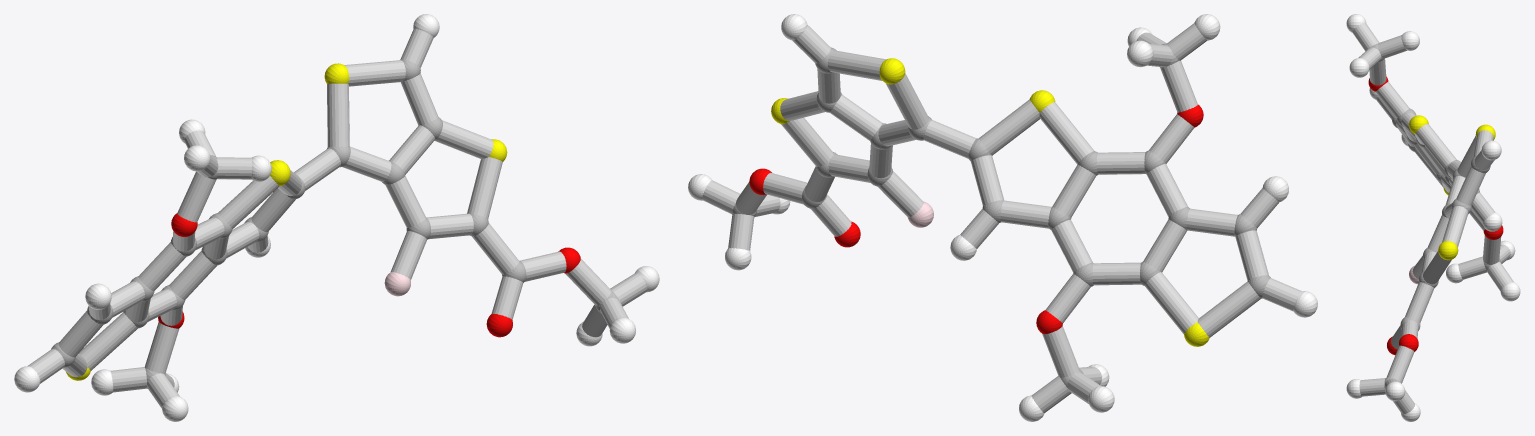
Rendered from color.glb.
3 renders of one model, left to right at view 1: azimuth 30°, elevation 25°; view 2: azimuth 150°, elevation 25°; view 3: azimuth 270°, elevation 25°, orthographic. The views are drawn at different scales.
Parts seen in each view (by area): view 1: grp15205, grp8689, grp1, grp13395, grp7241; view 2: grp15205, grp8689, grp1, grp7241, grp13395; view 3: grp15205, grp8689, grp1, grp7241, grp13395.
Part boxes in pixels (<box>): grp15205: <box>27,28,647,408</box>; grp8689: <box>14,14,659,421</box>; grp1: <box>51,59,618,388</box>; grp13395: <box>158,213,580,337</box>; grp7241: <box>66,63,507,380</box>; grp15205: <box>702,23,1301,413</box>; grp8689: <box>688,14,1317,421</box>; grp1: <box>732,43,1270,387</box>; grp7241: <box>771,58,1209,346</box>; grp13395: <box>749,104,1203,334</box>; grp15205: <box>1352,23,1513,413</box>; grp8689: <box>1346,14,1520,421</box>; grp1: <box>1370,43,1500,383</box>; grp7241: <box>1409,115,1495,260</box>; grp13395: <box>1368,76,1503,354</box>.
Bounding box in the file's own units: 16.51 × 8.61 × 5.23.
